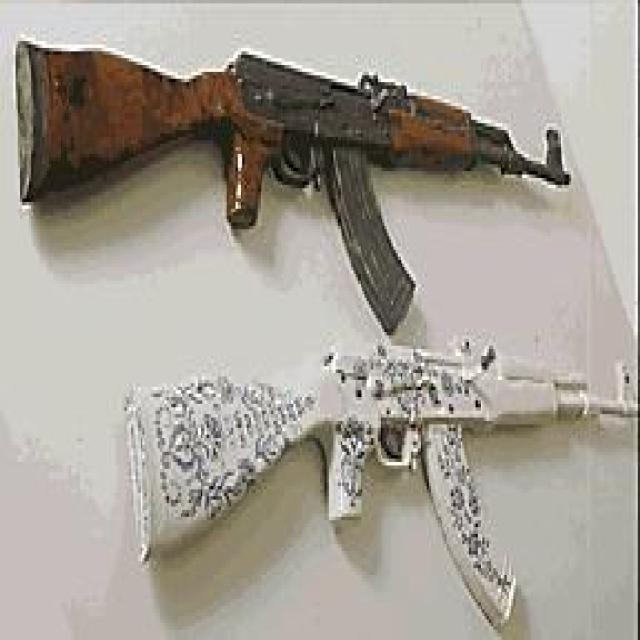Gun: (107, 341, 620, 605), (14, 28, 574, 260)
